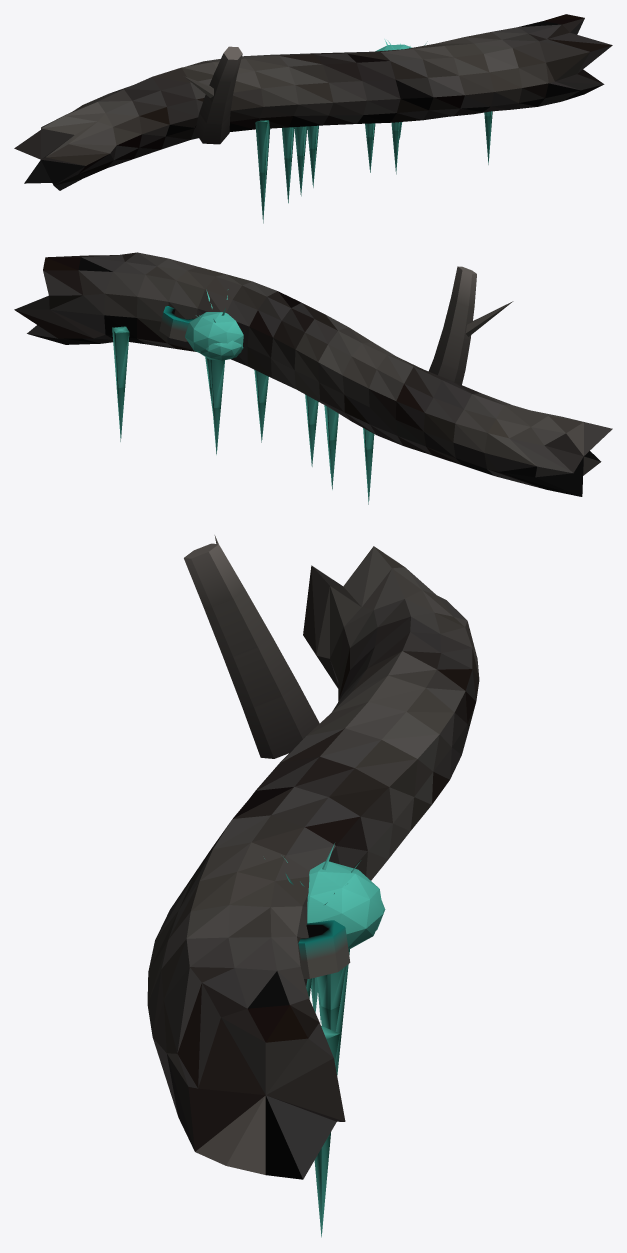
Rendered from pohon_tumbang_bridge_swamp_140296.glb.
3 renders of one model, top to bottom at view 1: azimuth 30°, elevation 25°; view 2: azimuth 150°, elevation 25°; view 3: azimuth 270°, elevation 25°, orthographic. The views are drawn at different scales.
Visible parts, largest first — view 1: Batang_Melintang_Sungai; view 2: Batang_Melintang_Sungai; view 3: Batang_Melintang_Sungai.
Boxes of the visible parts, x1=… form: Batang_Melintang_Sungai: x1=14, y1=14, x2=612, y2=223; Batang_Melintang_Sungai: x1=14, y1=252, x2=612, y2=504; Batang_Melintang_Sungai: x1=147, y1=535, x2=479, y2=1237.
Bounding box in the file's own units: 7.46 × 2.78 × 1.99.
